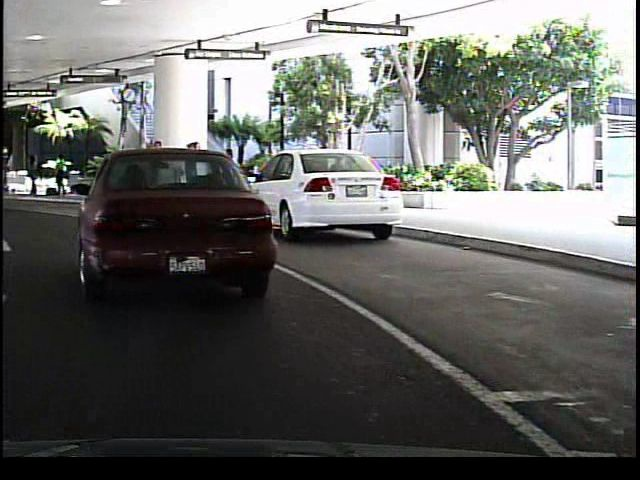person: (178, 136, 204, 212), (144, 135, 168, 207), (213, 145, 242, 200), (251, 145, 276, 196), (50, 155, 73, 196), (25, 148, 43, 199)
